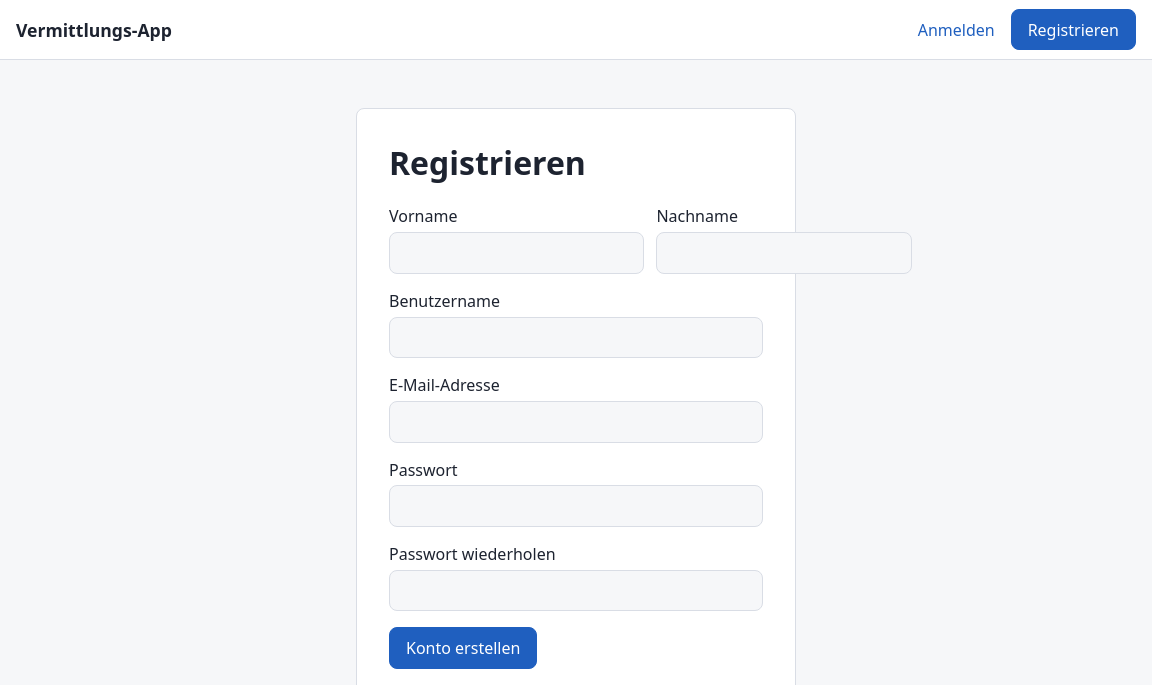
it: RegisterPage › shows field errors returned by the server
Type "Anna" into the field labelled "Vorname" at x=517, y=253, box top-left (389, 232), bottom-right (644, 274)
Type "Schmidt" into the field labelled "Nachname" at x=784, y=253, box top-left (656, 232), bottom-right (912, 274)
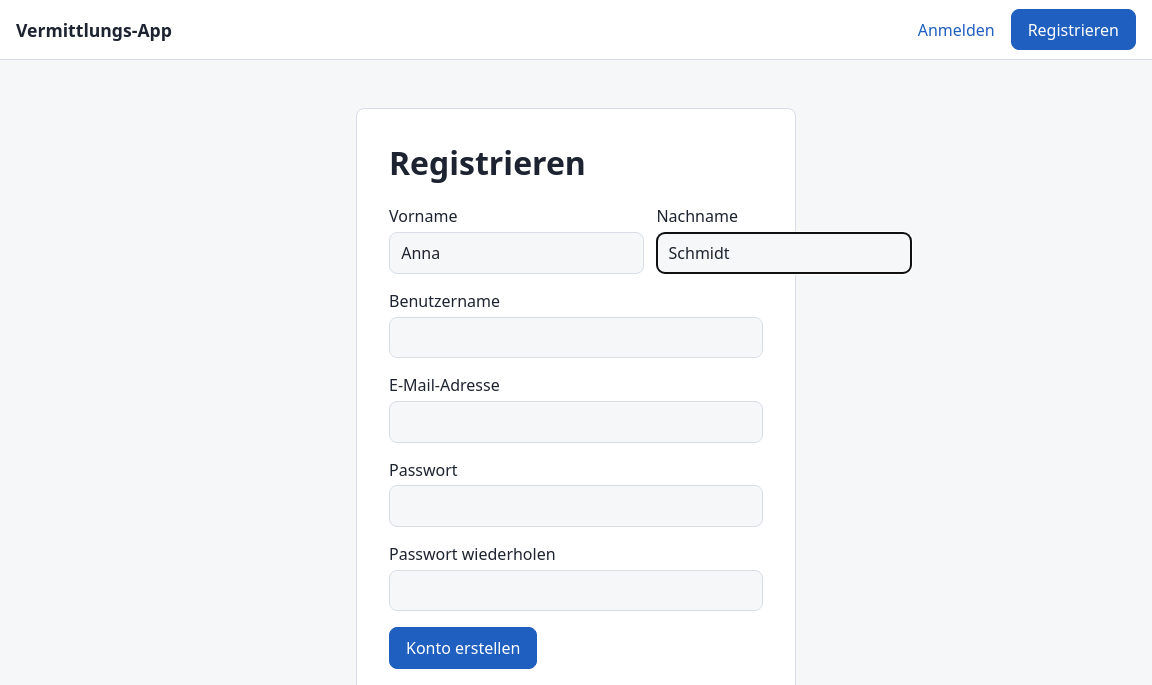
Type "anna" into the field labelled "Benutzername" at x=576, y=337, box top-left (389, 317), bottom-right (763, 358)
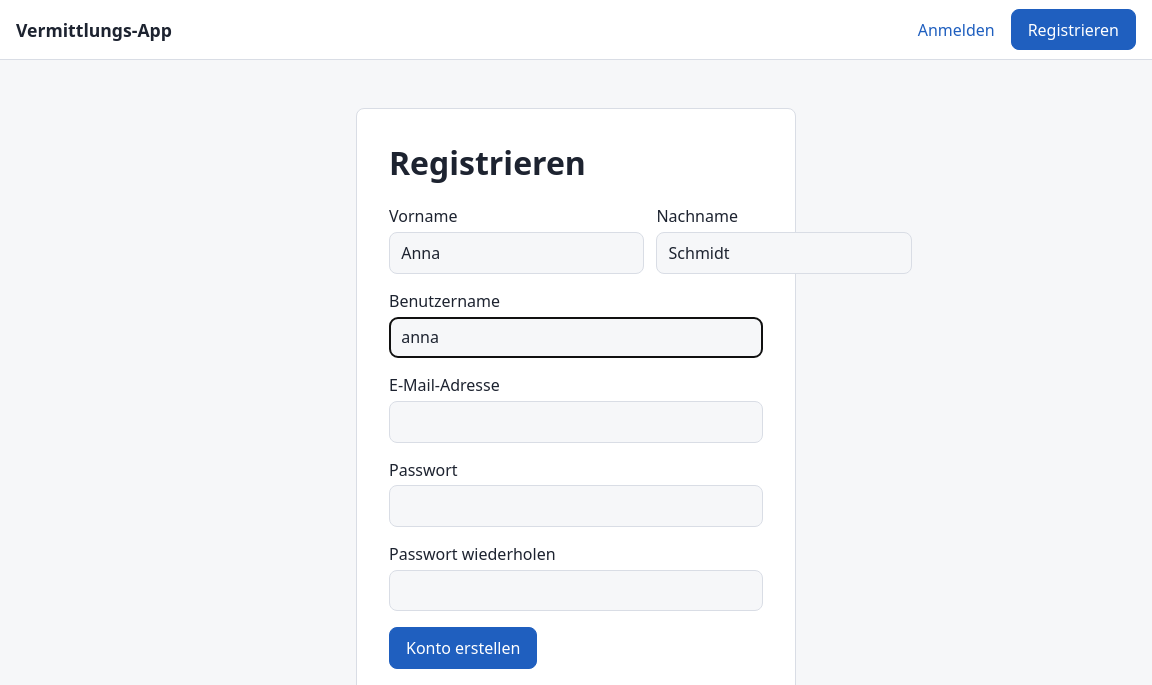
Type "anna@example.com" into the field labelled "E-Mail-Adresse" at x=576, y=422, box top-left (389, 401), bottom-right (763, 443)
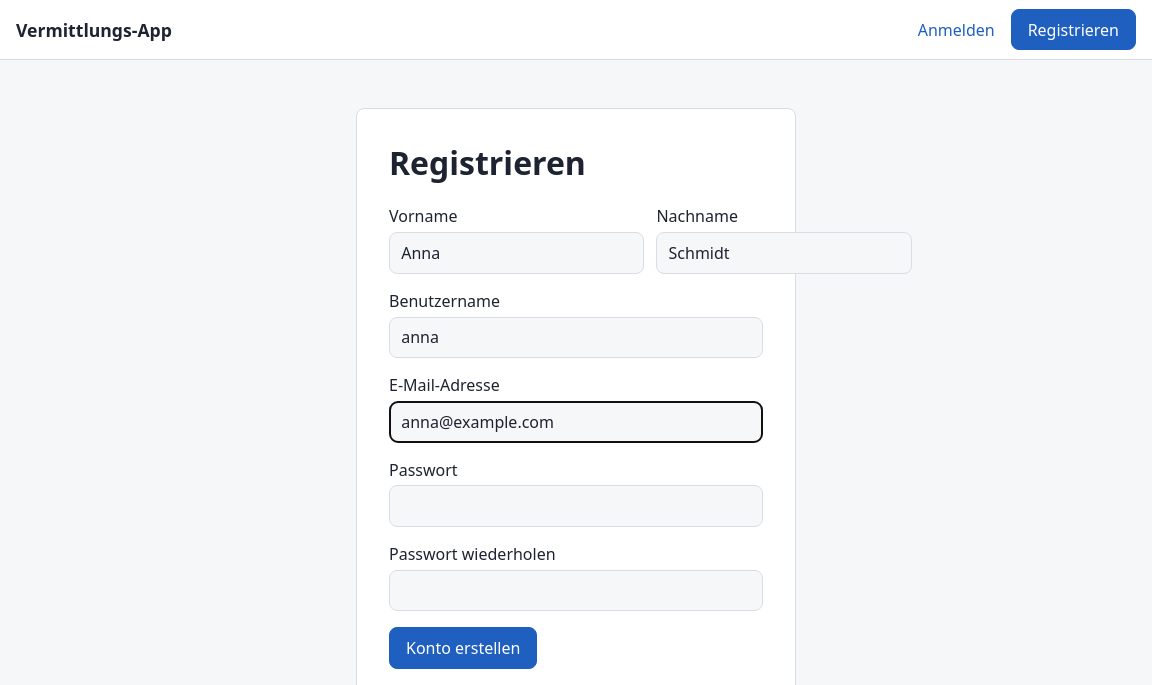
Type "S3cure-pass!" into the password field labelled "Passwort" at x=576, y=506, box top-left (389, 485), bottom-right (763, 527)
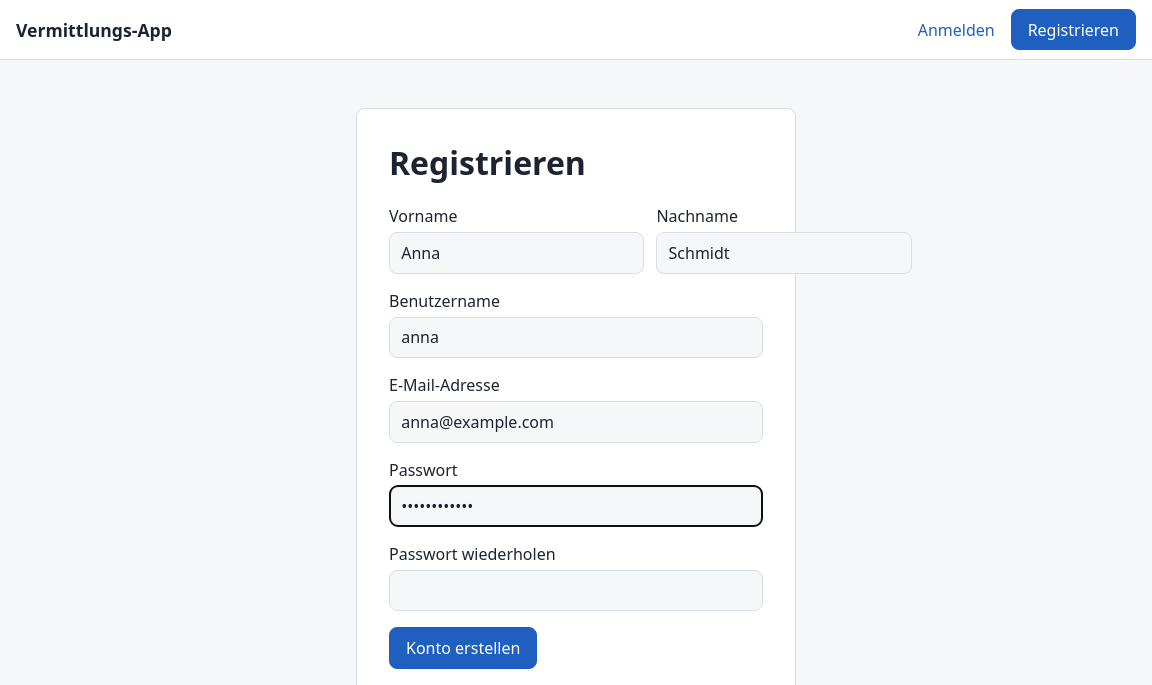
Type "S3cure-pass!" into the password field labelled "Passwort wiederholen" at x=576, y=591, box top-left (389, 570), bottom-right (763, 611)
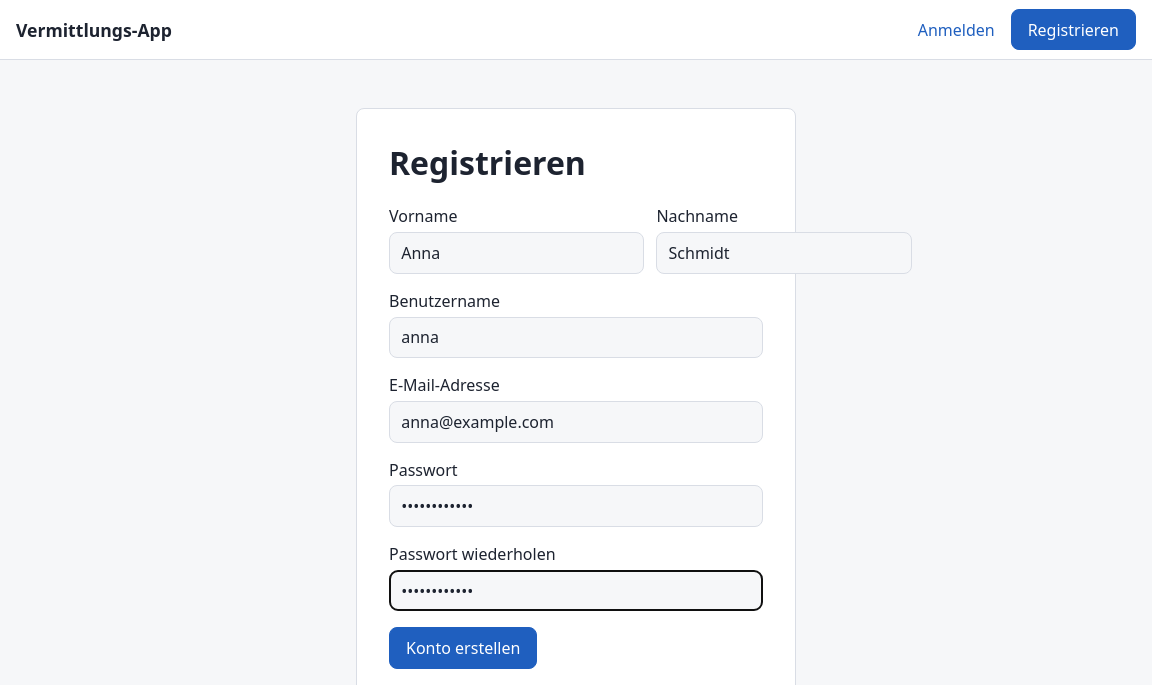
Click the button "Konto erstellen" at x=463, y=648, box top-left (389, 627), bottom-right (537, 669)
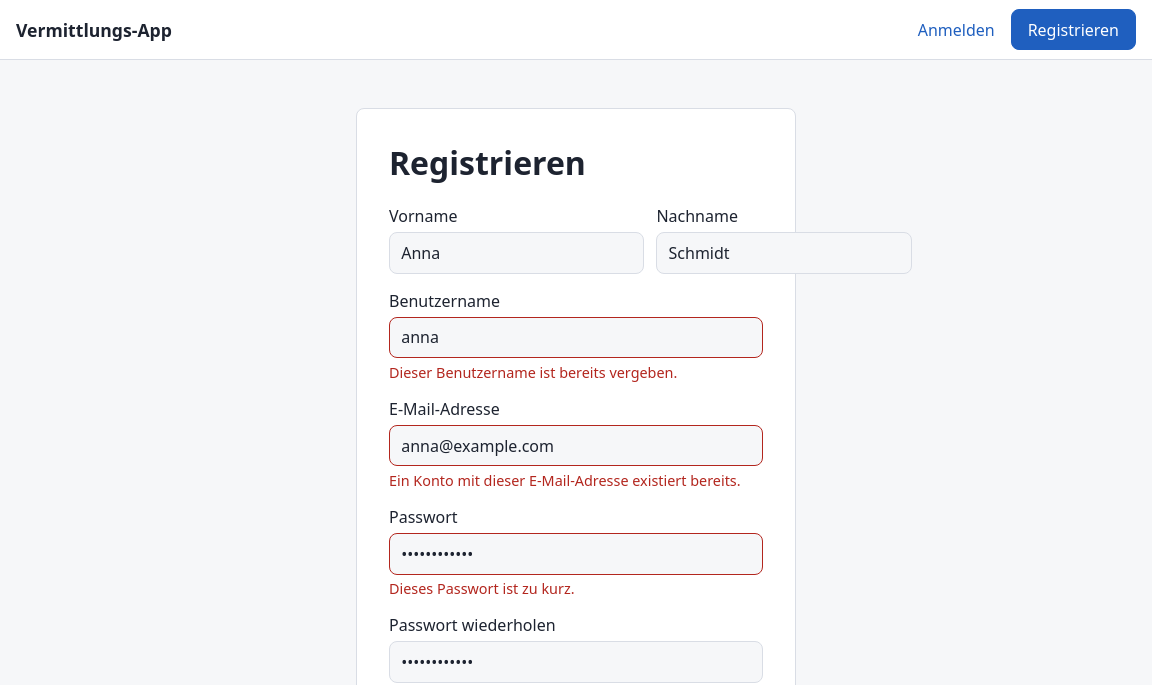
Now the list item "Ein Konto mit dieser E-Mail-Adresse existiert bereits." is shown, box top-left (389, 471), bottom-right (763, 490)
Now the list item "Dieses Passwort ist zu kurz." is shown, box top-left (389, 579), bottom-right (574, 598)
Now the list item "Dieser Benutzername ist bereits vergeben." is shown, box top-left (389, 363), bottom-right (677, 382)
